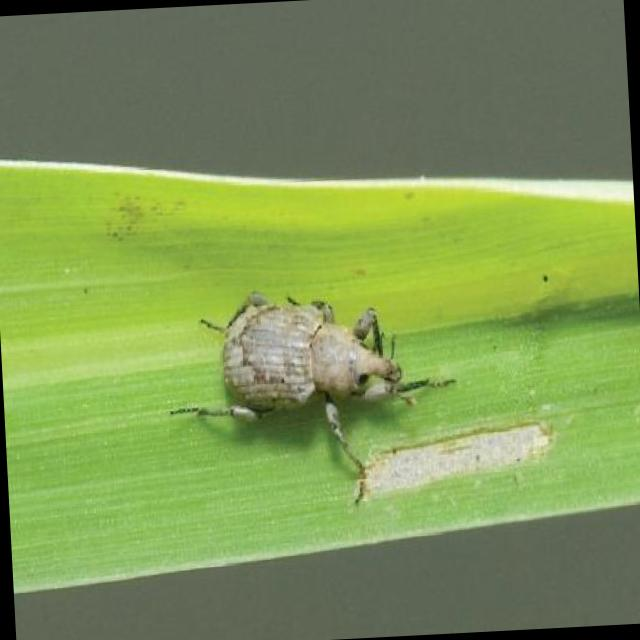rice-bug: (204, 281, 409, 454)
